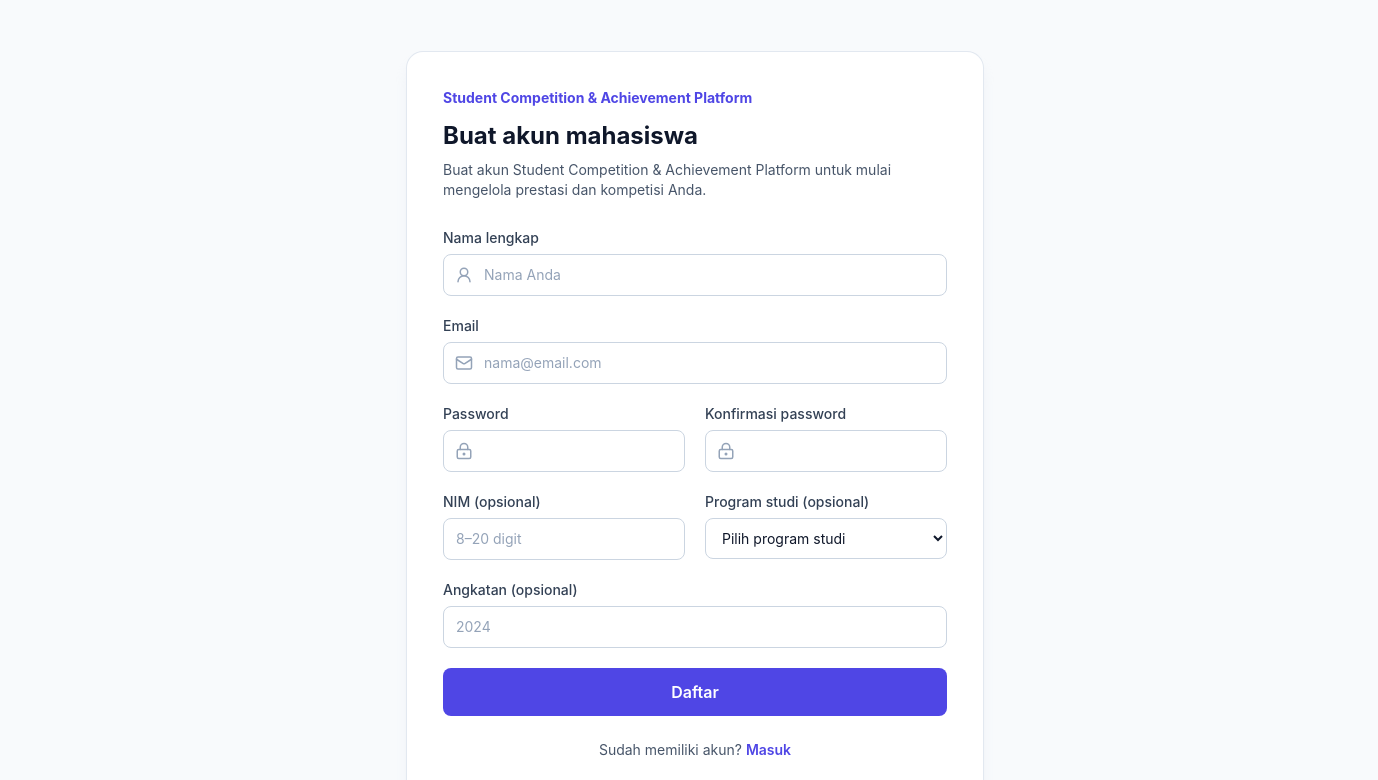
Test: RegisterPage redirect › returns to the requested public competition after registration
Type "Mahasiswa SCAP" into the field labelled "Nama lengkap". click: point(695, 275)
box: 443,254 -> 947,296
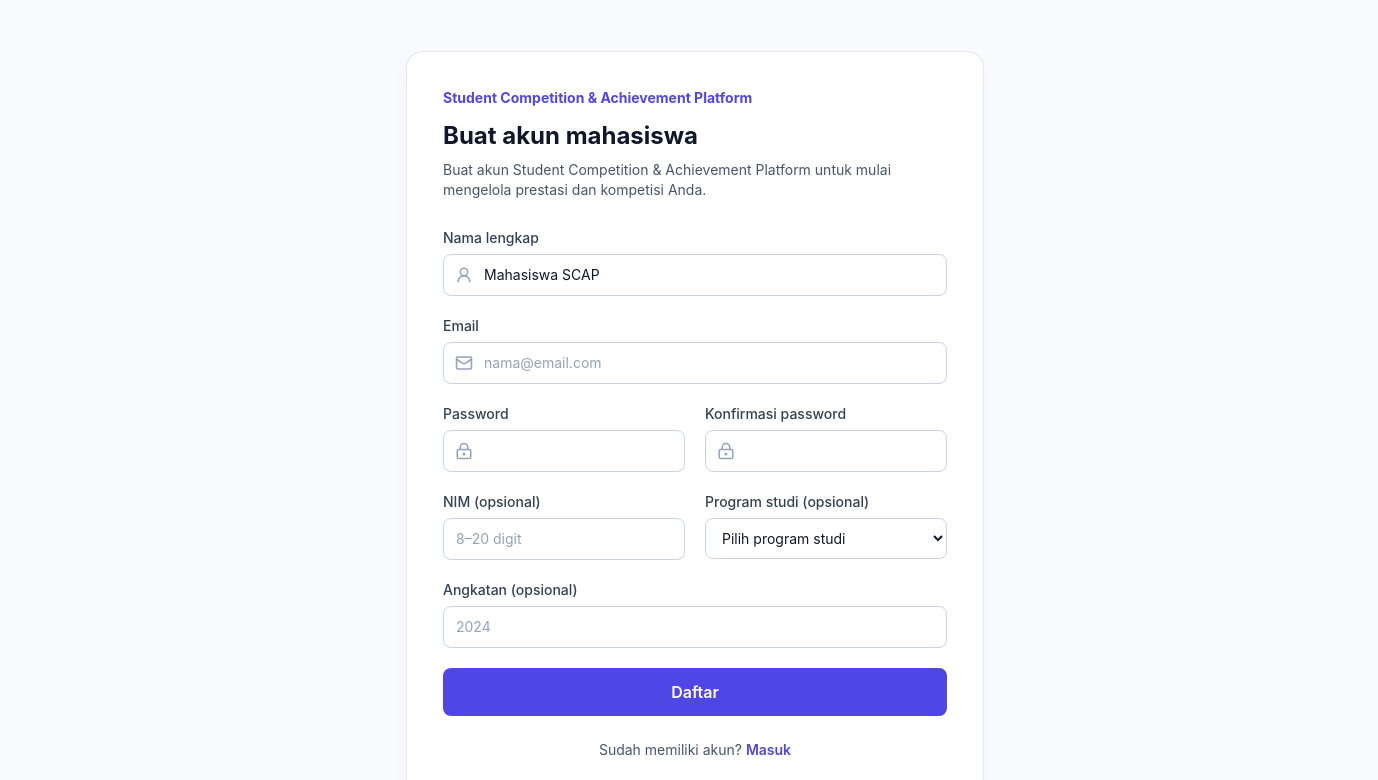
Type "student@scap.test" into the field labelled "Email". click: point(695, 363)
box: 443,342 -> 947,384
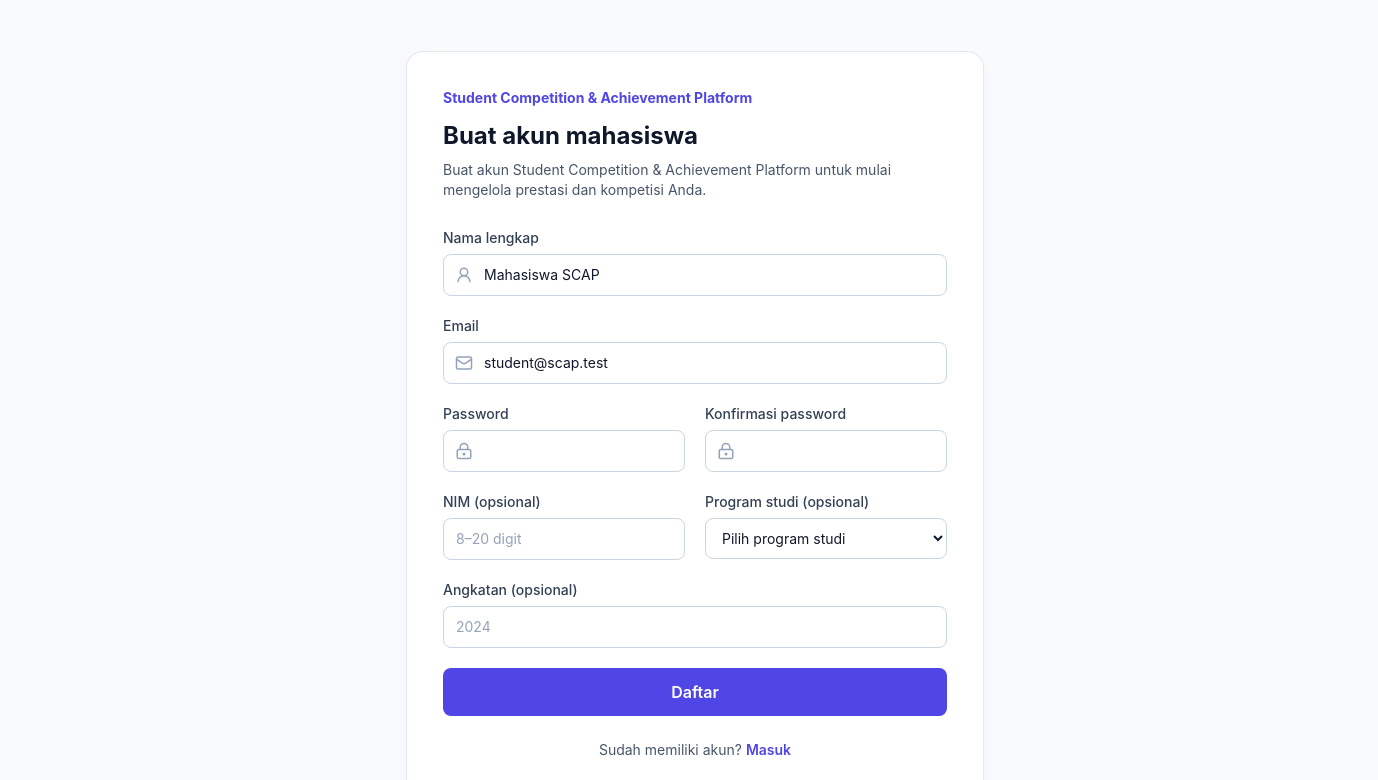
Type "Password123!" into the password field labelled "Password". click: point(564, 451)
box: 443,430 -> 685,472
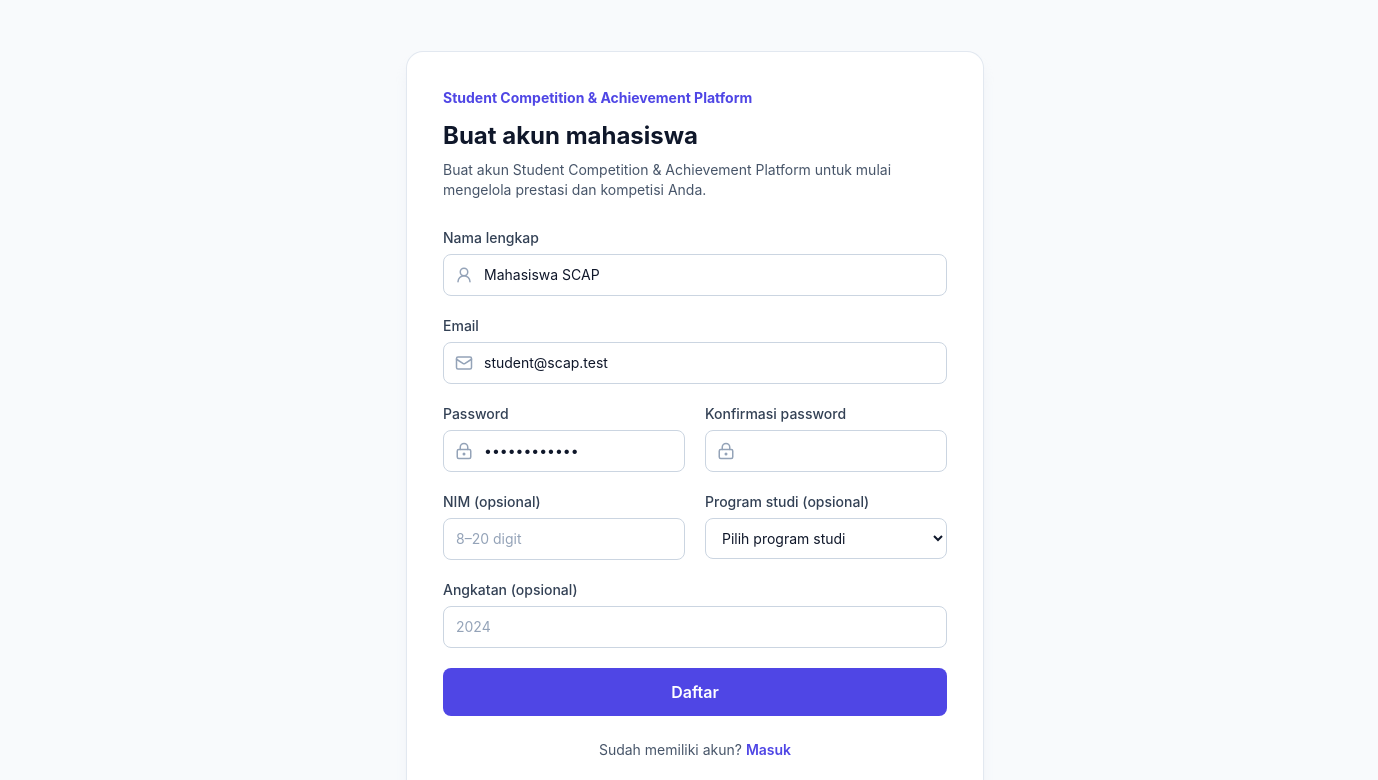
Type "Password123!" into the password field labelled "Konfirmasi password". click: point(826, 451)
box: 705,430 -> 947,472
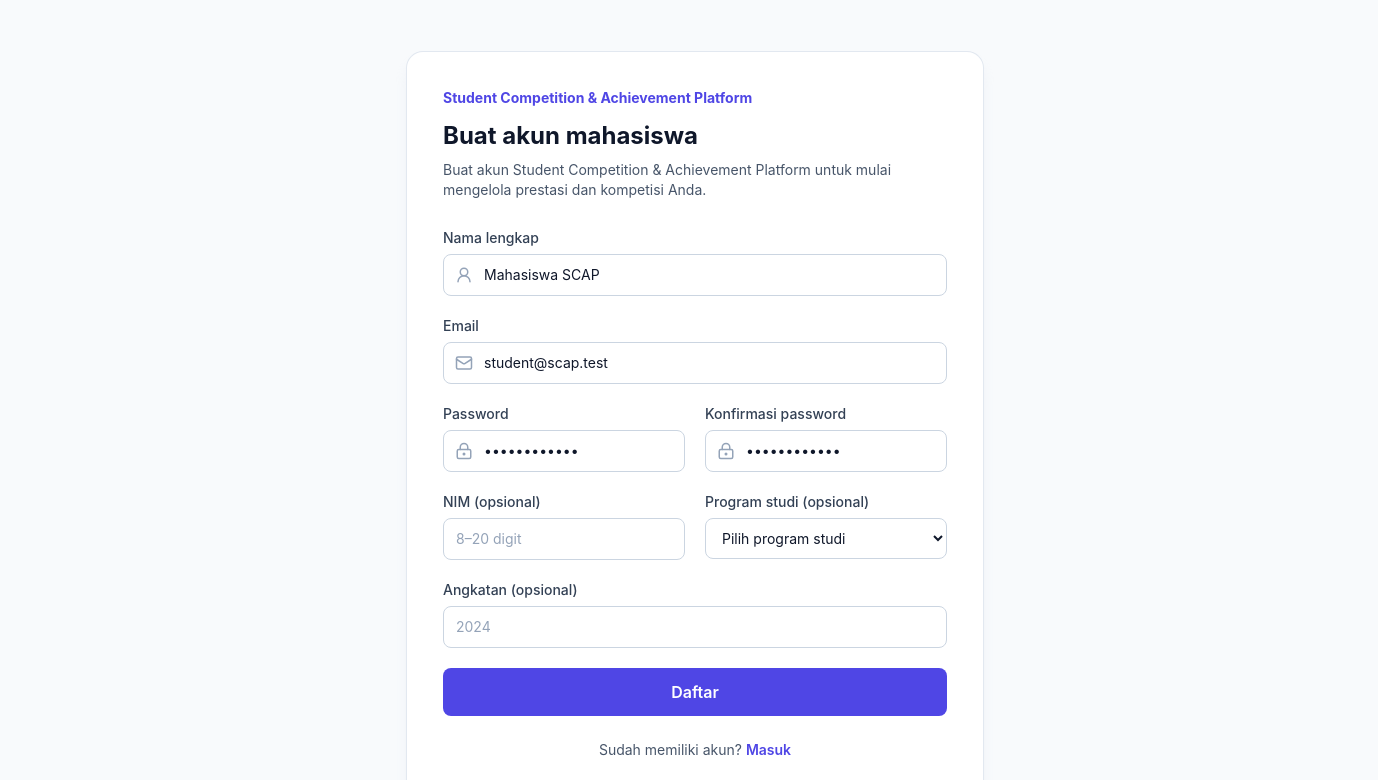
Click the button "Daftar". click: point(695, 692)
box: 443,668 -> 947,716
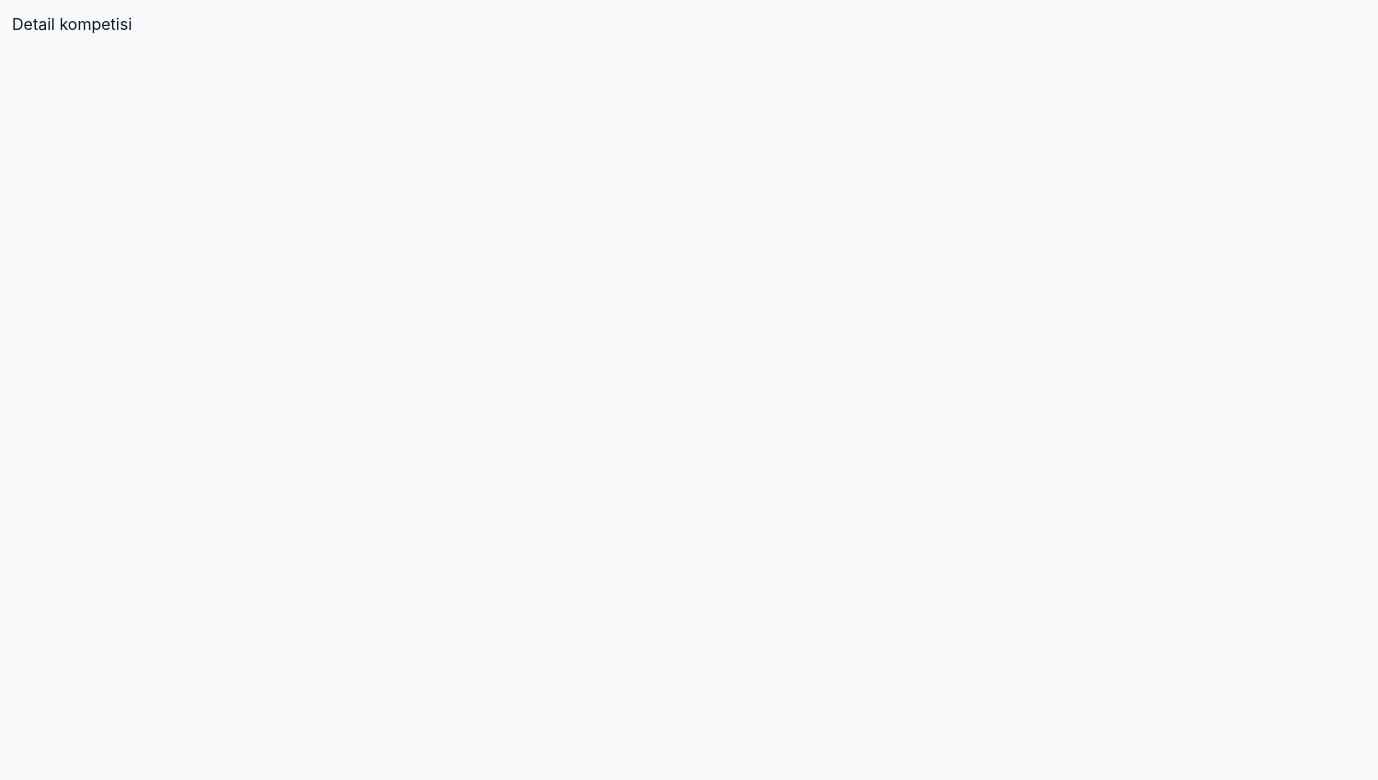
Check: the text "Detail kompetisi" is shown, box 12,14 -> 132,34
